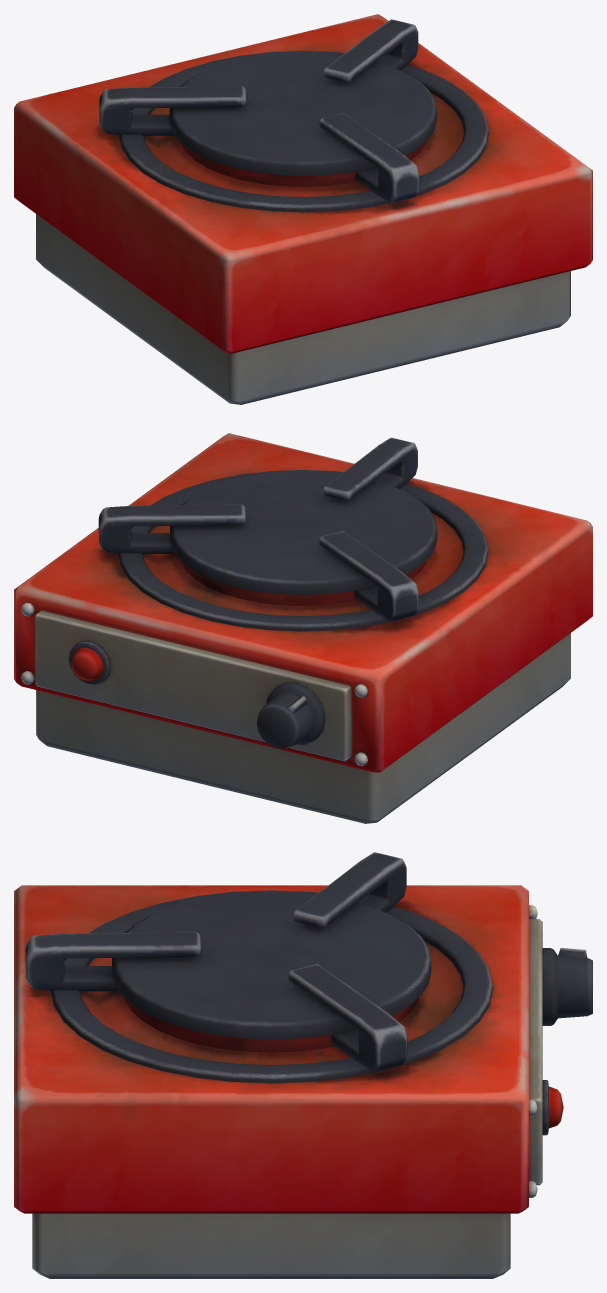
The model's file is Stove.fbx.
3 renders of one model, top to bottom at view 1: azimuth 30°, elevation 25°; view 2: azimuth 150°, elevation 25°; view 3: azimuth 270°, elevation 25°, orthographic. The views are drawn at different scales.
Parts seen in each view (by area): view 1: m_sk_cooker_01; view 2: m_sk_cooker_01; view 3: m_sk_cooker_01.
Boxes of the visible parts, bbox=[...] form: m_sk_cooker_01: bbox=[14, 14, 592, 404]; m_sk_cooker_01: bbox=[14, 433, 592, 823]; m_sk_cooker_01: bbox=[14, 852, 592, 1278].
Bounding box in the file's own units: 120 × 63 × 137.
